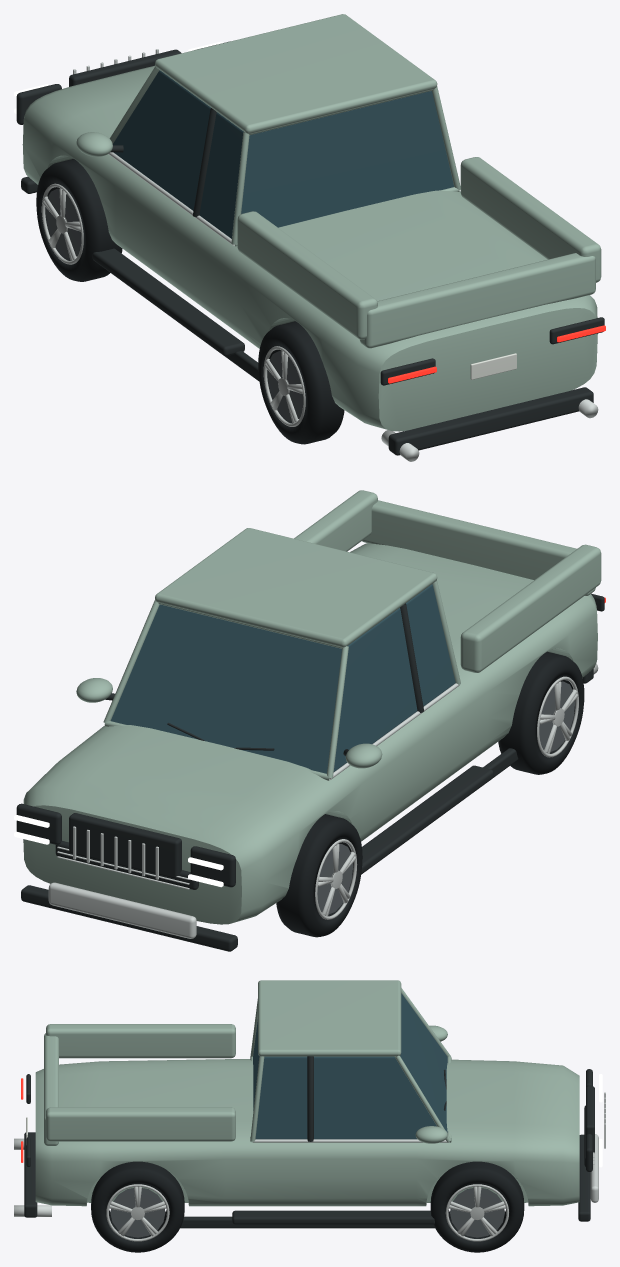
The model's file is trail-pickup.glb.
The picture shows the model from 3 angles, top to bottom: view 1: azimuth 30°, elevation 25°; view 2: azimuth 150°, elevation 25°; view 3: azimuth 270°, elevation 25°; orthographic projection. The views are drawn at different scales.
Visible parts, largest first — view 1: trail-pickup_Paint, trail-pickup_Smoked glass, trail-pickup_Graphite, Spin_RL.004_Rubber, Spin_FL.004_Rubber, trail-pickup_Satin aluminium, Spin_FL.004_WheelFinish, Spin_RL.004_WheelFinish, Spin_RL.004_Brake steel, Spin_FL.004_Brake steel, trail-pickup_Ivory, trail-pickup_Tail lamp; view 2: trail-pickup_Paint, trail-pickup_Smoked glass, trail-pickup_Graphite, trail-pickup_Satin aluminium, Spin_FL.004_Rubber, Spin_RL.004_Rubber, Spin_RL.004_WheelFinish, Spin_FL.004_WheelFinish, Spin_RL.004_Brake steel, Spin_FL.004_Brake steel, trail-pickup_Headlamp; view 3: trail-pickup_Paint, trail-pickup_Smoked glass, trail-pickup_Graphite, Spin_RR.004_Rubber, Spin_FR.004_Rubber, trail-pickup_Satin aluminium, Spin_RR.004_Brake steel, Spin_FR.004_Brake steel, Spin_RR.004_WheelFinish, Spin_FR.004_WheelFinish.
Part boxes in pixels (<box>): trail-pickup_Paint: <box>22,14,601,431</box>; trail-pickup_Smoked glass: <box>112,70,454,238</box>; trail-pickup_Graphite: <box>16,41,604,455</box>; Spin_RL.004_Rubber: <box>258,321,344,444</box>; Spin_FL.004_Rubber: <box>36,159,122,281</box>; trail-pickup_Satin aluminium: <box>73,49,598,461</box>; Spin_FL.004_WheelFinish: <box>41,183,83,264</box>; Spin_RL.004_WheelFinish: <box>263,346,305,426</box>; Spin_RL.004_Brake steel: <box>267,351,303,421</box>; Spin_FL.004_Brake steel: <box>45,188,81,258</box>; trail-pickup_Ivory: <box>470,353,516,379</box>; trail-pickup_Tail lamp: <box>388,325,605,383</box>; trail-pickup_Paint: <box>23,490,601,924</box>; trail-pickup_Smoked glass: <box>111,584,455,773</box>; trail-pickup_Graphite: <box>16,593,604,951</box>; trail-pickup_Satin aluminium: <box>48,663,598,938</box>; Spin_FL.004_Rubber: <box>276,814,362,937</box>; Spin_RL.004_Rubber: <box>498,651,584,774</box>; Spin_RL.004_WheelFinish: <box>537,676,578,757</box>; Spin_FL.004_WheelFinish: <box>315,839,357,919</box>; Spin_RL.004_Brake steel: <box>539,681,574,751</box>; Spin_FL.004_Brake steel: <box>317,844,353,913</box>; trail-pickup_Headlamp: <box>14,815,223,887</box>; trail-pickup_Paint: <box>35,980,579,1206</box>; trail-pickup_Smoked glass: <box>253,993,447,1139</box>; trail-pickup_Graphite: <box>24,1056,594,1228</box>; Spin_RR.004_Rubber: <box>91,1161,184,1252</box>; Spin_FR.004_Rubber: <box>430,1161,524,1252</box>; trail-pickup_Satin aluminium: <box>14,1092,605,1216</box>; Spin_RR.004_Brake steel: <box>110,1188,165,1237</box>; Spin_FR.004_Brake steel: <box>450,1188,504,1237</box>; Spin_RR.004_WheelFinish: <box>106,1184,169,1241</box>; Spin_FR.004_WheelFinish: <box>445,1184,508,1241</box>.
Size of the model in its own units: 2.6 by 2.06 by 5.82.
